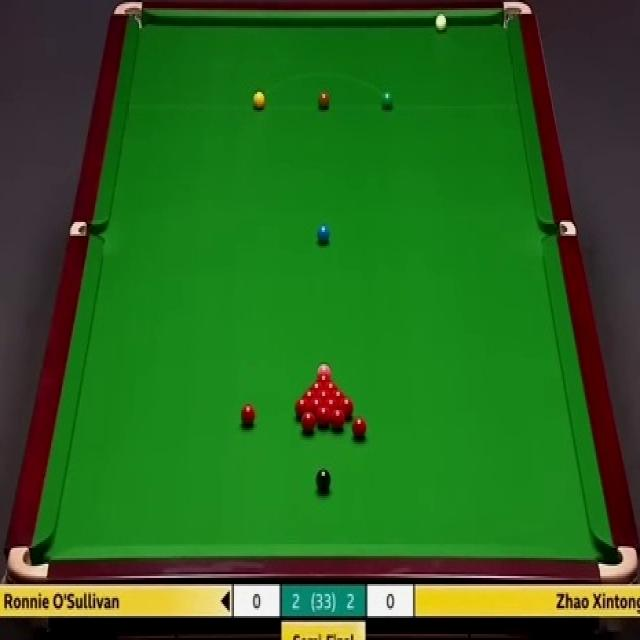black-ball: (314, 467, 330, 491)
blue-ball: (316, 225, 331, 242)
brown-ball: (318, 90, 330, 111)
green-ball: (380, 88, 395, 110)
pink-ball: (317, 364, 332, 378)
red-ball: (298, 410, 316, 433), (352, 417, 367, 440), (316, 405, 331, 427), (240, 404, 255, 426), (337, 397, 352, 418), (295, 397, 308, 419), (331, 410, 345, 430), (325, 398, 338, 419), (304, 389, 315, 401), (318, 390, 329, 402), (318, 375, 328, 387)
white-ball: (434, 14, 447, 34)
yellow-ball: (253, 90, 265, 110)
